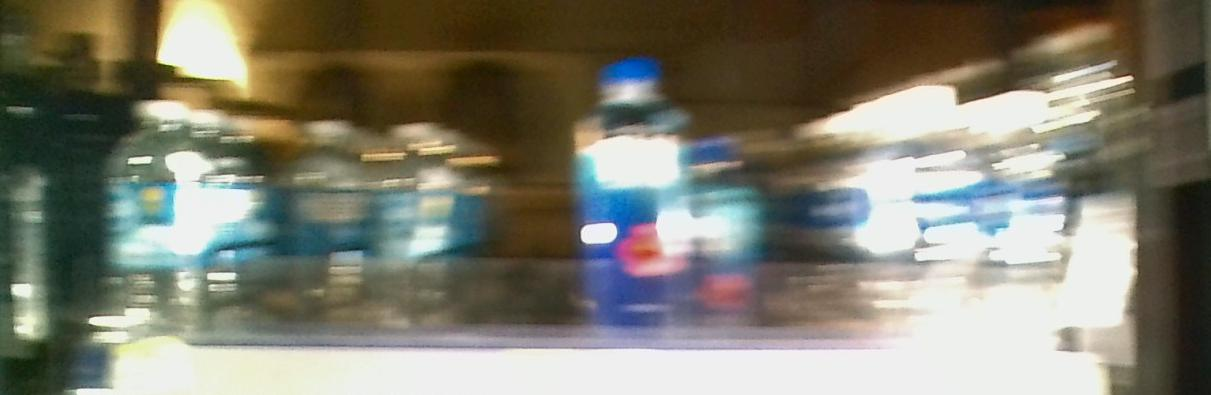bottle: (565, 57, 688, 336), (96, 97, 203, 329)
